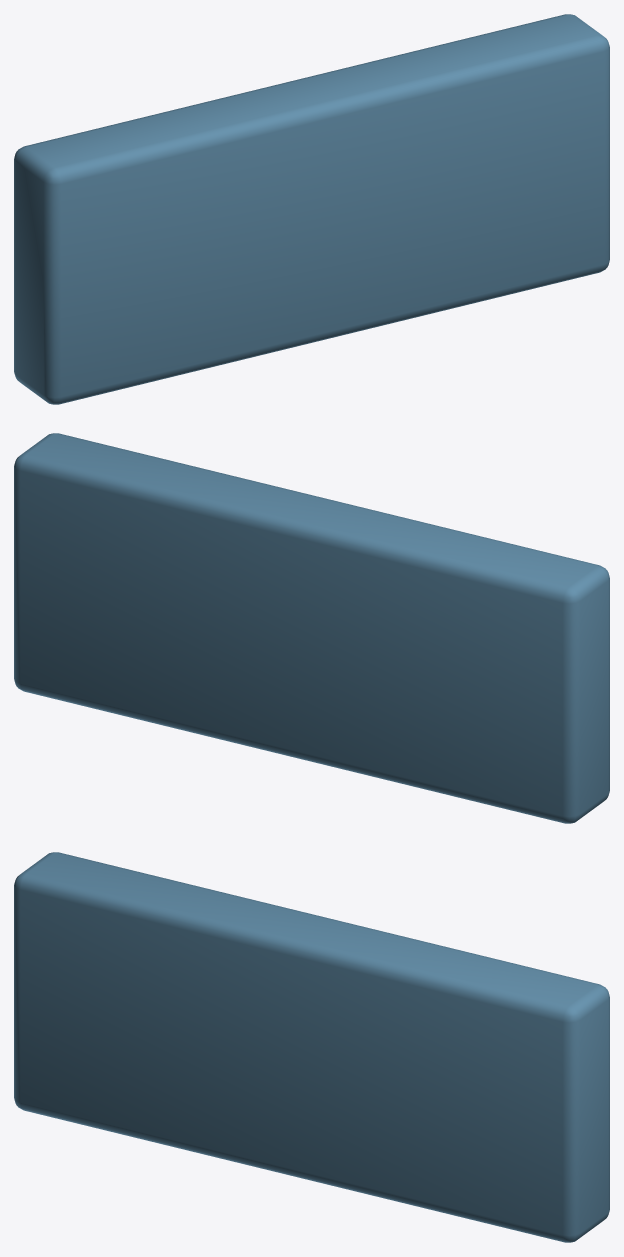
File: room-sign.glb
3 views of the same model, one above another, from view 1: azimuth 30°, elevation 25°; view 2: azimuth 150°, elevation 25°; view 3: azimuth 330°, elevation 25° (orthographic).
Parts seen in each view (by area): view 1: panel; view 2: panel; view 3: panel.
Boxes of the visible parts, bbox=[...] form: panel: bbox=[14, 14, 609, 404]; panel: bbox=[14, 433, 609, 823]; panel: bbox=[14, 852, 609, 1242].
Size of the model in its own units: 0.8 by 0.32 by 0.1.
